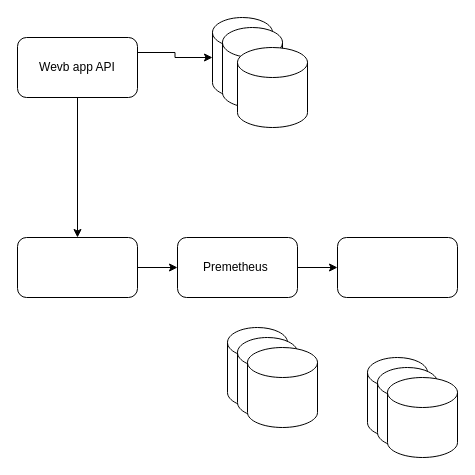
Image size: 475x475. Some labels were removed from this diagram. The shapes that lost their labels are listed below. From the top down, each one's box as (x1, y1, x2, y2) in pixels, then its label:
(16, 236, 138, 298): Metrics API
(336, 236, 458, 298): Grafana
